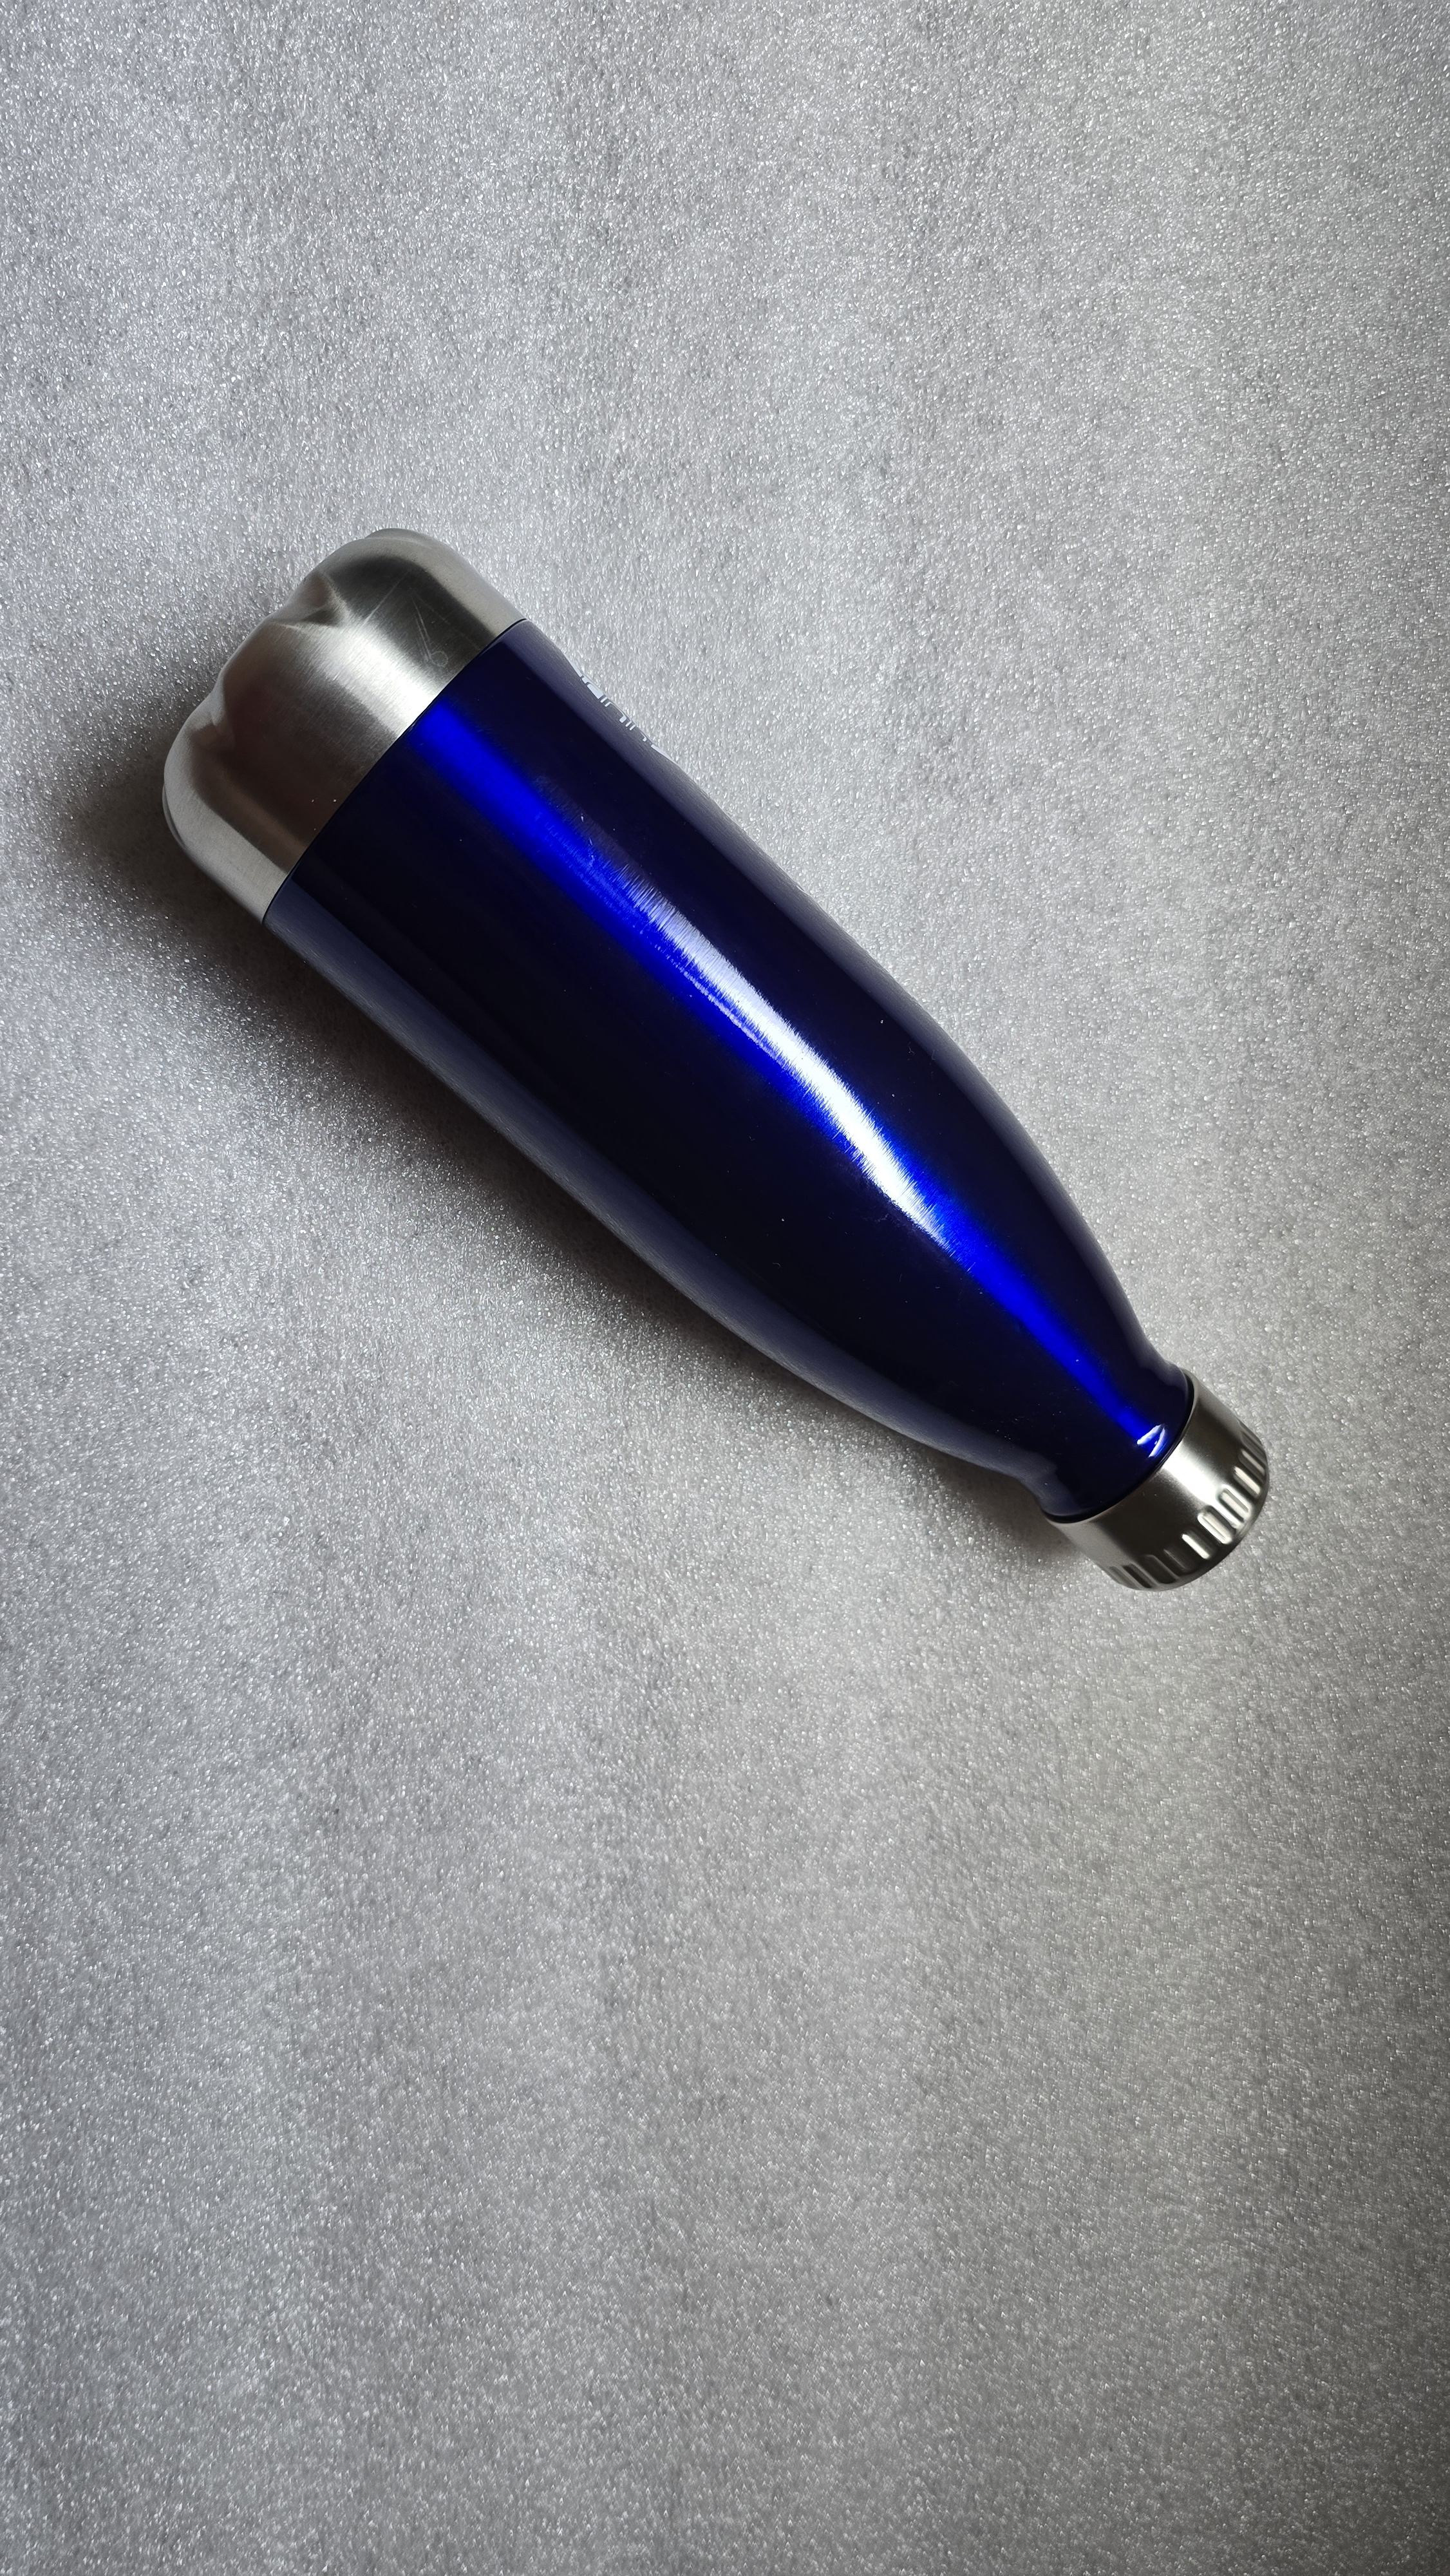bottle: (111, 502, 1332, 1591)
